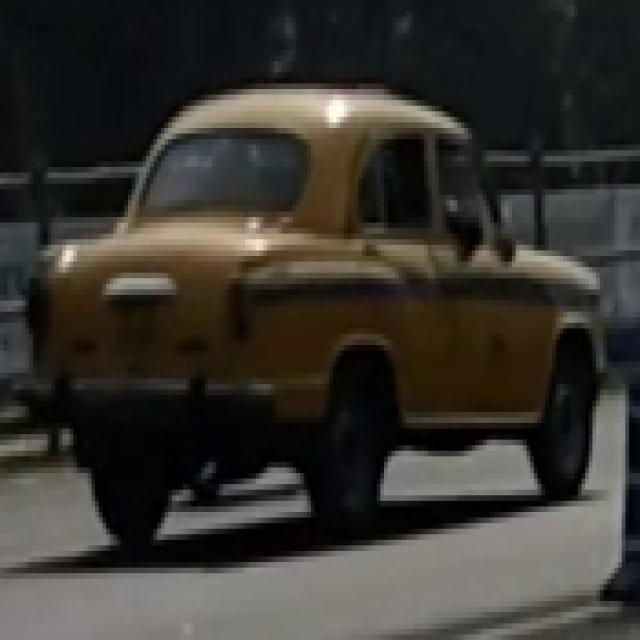ambasador_taxi: (18, 77, 610, 550)
